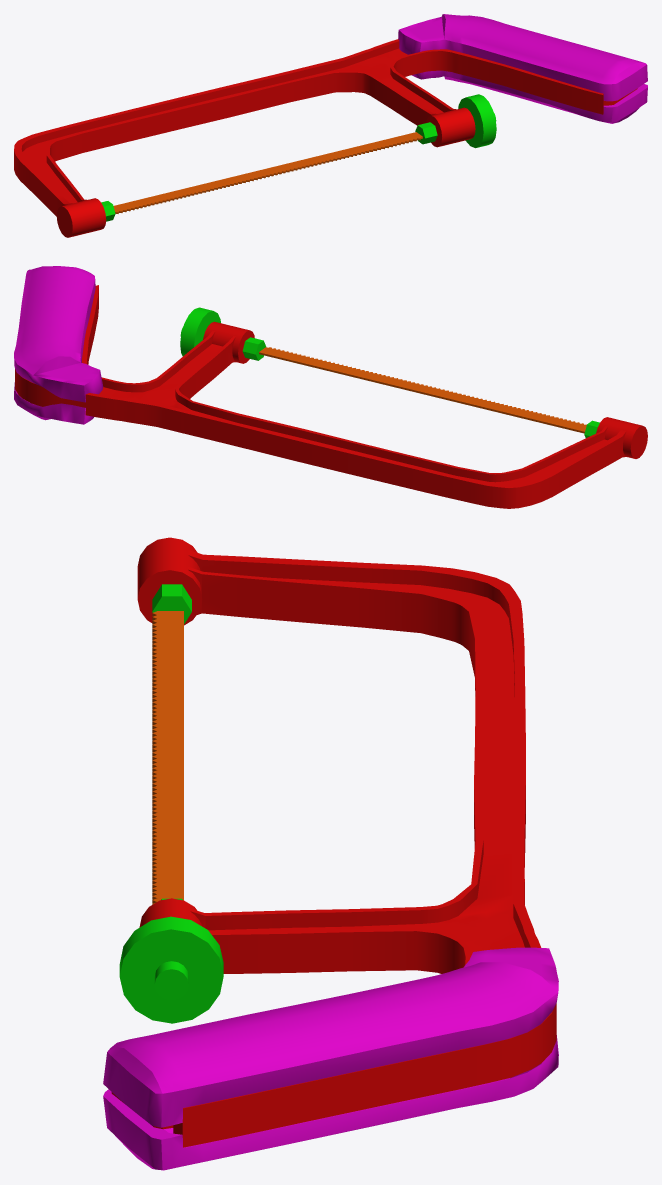
The model's file is Gergaji Besi_LP.fbx.
The picture shows the model from 3 angles, top to bottom: view 1: azimuth 30°, elevation 25°; view 2: azimuth 150°, elevation 25°; view 3: azimuth 270°, elevation 25°; orthographic projection. The views are drawn at different scales.
Visible parts, largest first — view 1: Gergaji Besi_LP; view 2: Gergaji Besi_LP; view 3: Gergaji Besi_LP.
Boxes of the visible parts, x1=… form: Gergaji Besi_LP: x1=14, y1=14, x2=647, y2=237; Gergaji Besi_LP: x1=14, y1=266, x2=647, y2=508; Gergaji Besi_LP: x1=103, y1=537, x2=558, y2=1170.
Size of the model in its own units: 47.96 by 4.56 by 16.29.
